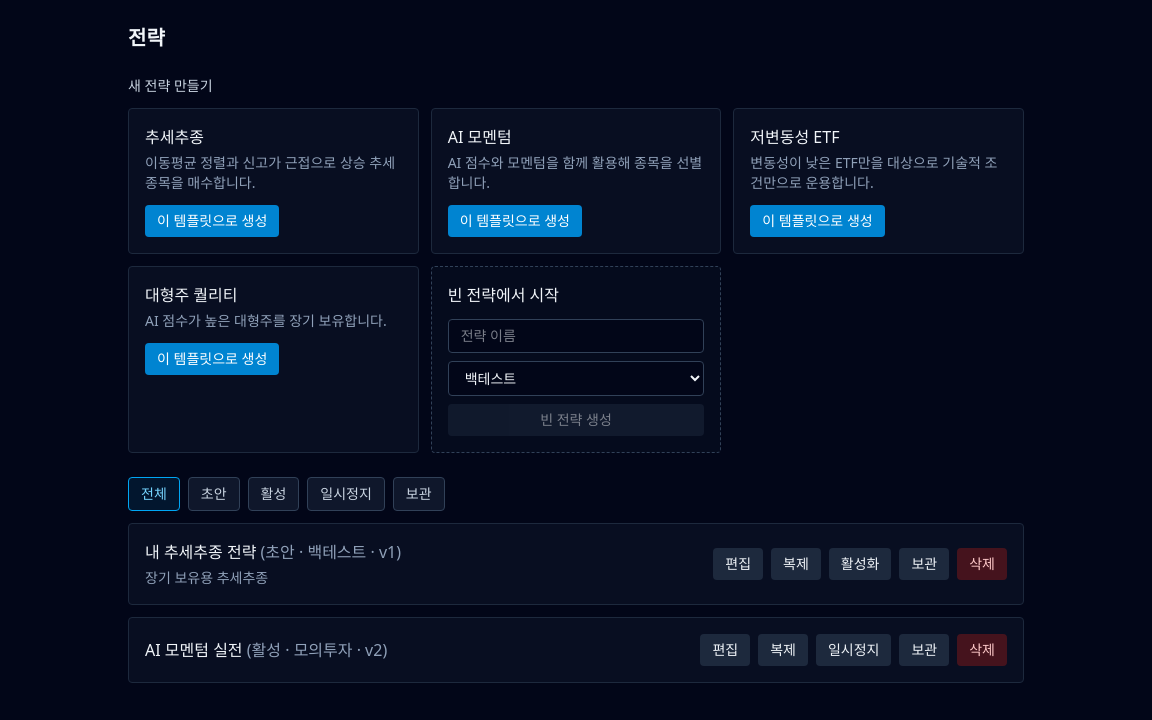
Scenario: StrategyListPage › shows an inline 409 error when deleting an active strategy, and it stays in the list
This screenshot has width=1152, height=720.
Click the button "삭제" in the row of "AI 모멘텀 실전" at [982, 650], box [957,634,1007,666]
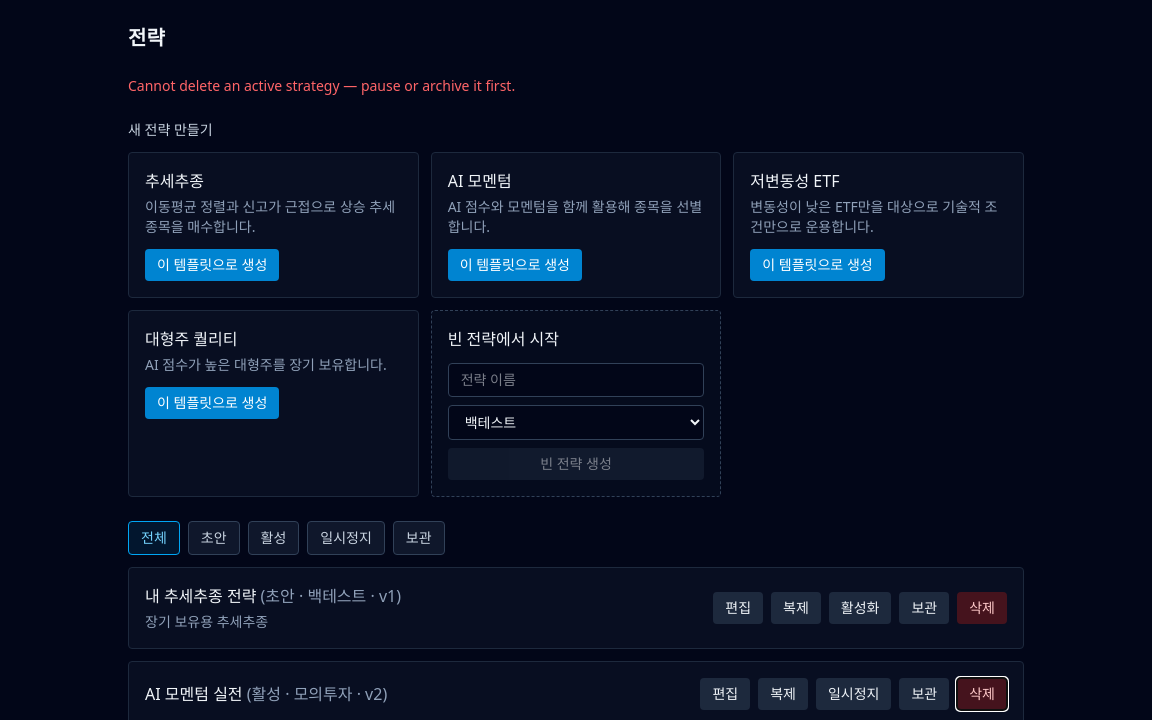
Expected: the text "AI 모멘텀 실전 (활성 · 모의투자 · v2)" is shown, [145,682,387,706]
Expected: the text "Cannot delete an active strategy — pause or archive it first." is shown, [128,76,515,95]
